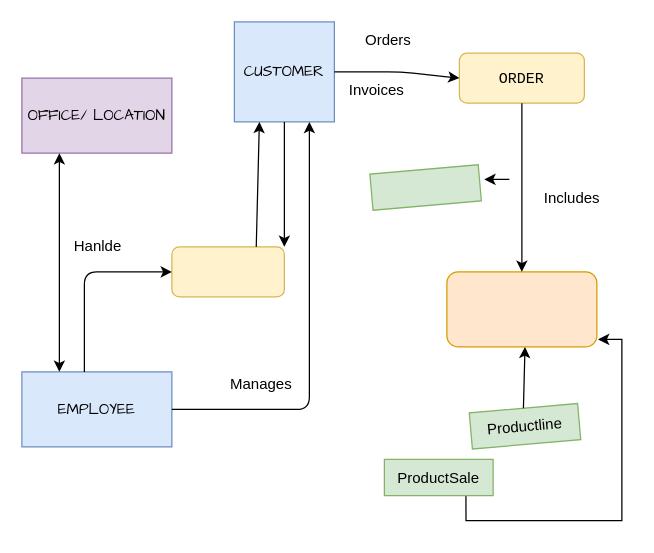
The diagram is 654 pixels wide and 553 high, and some of its shapes have lost their labels. The shapes that lost their labels are listed below. From the top down, each one's box as (x1, y1, x2, y2) in pixels, then its label:
(369, 163, 482, 210): OrderDetails
(171, 246, 284, 297): PAYMENT
(446, 271, 597, 347): Products
